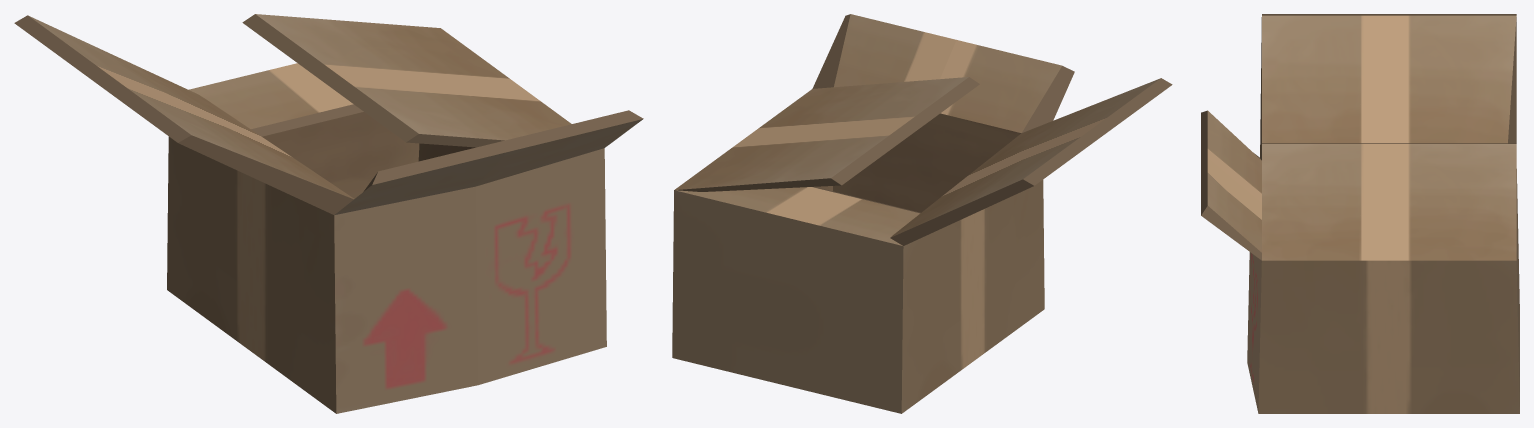
The model's file is CaixaPapelao1.fbx.
3 renders of one model, left to right at view 1: azimuth 30°, elevation 25°; view 2: azimuth 150°, elevation 25°; view 3: azimuth 270°, elevation 25°, orthographic. The views are drawn at different scales.
Parts seen in each view (by area): view 1: CaixaPapelao1; view 2: CaixaPapelao1; view 3: CaixaPapelao1.
Part boxes in pixels (left/top/right/bottom): CaixaPapelao1: left=14, top=14, right=643, bottom=413; CaixaPapelao1: left=672, top=14, right=1172, bottom=413; CaixaPapelao1: left=1201, top=14, right=1519, bottom=413.
Size of the model in its own units: 0.7718 by 0.5372 by 0.6426.
